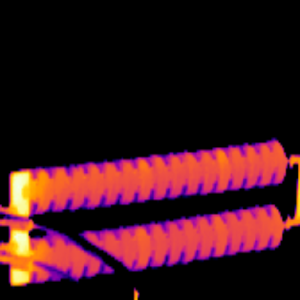insulator: (15, 141, 288, 278)
